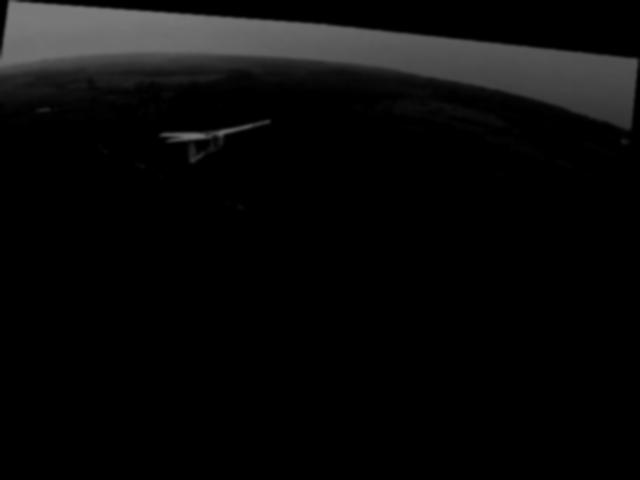hedef: (147, 94, 280, 183)
